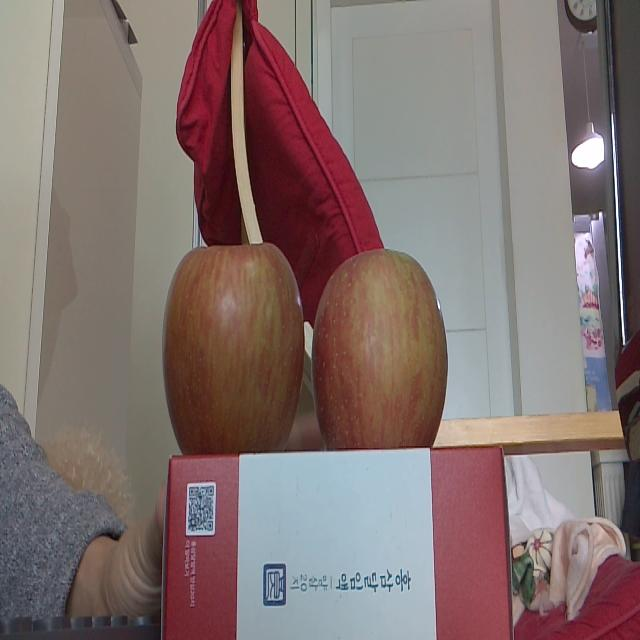apple: (162, 241, 302, 456), (311, 248, 449, 454)
